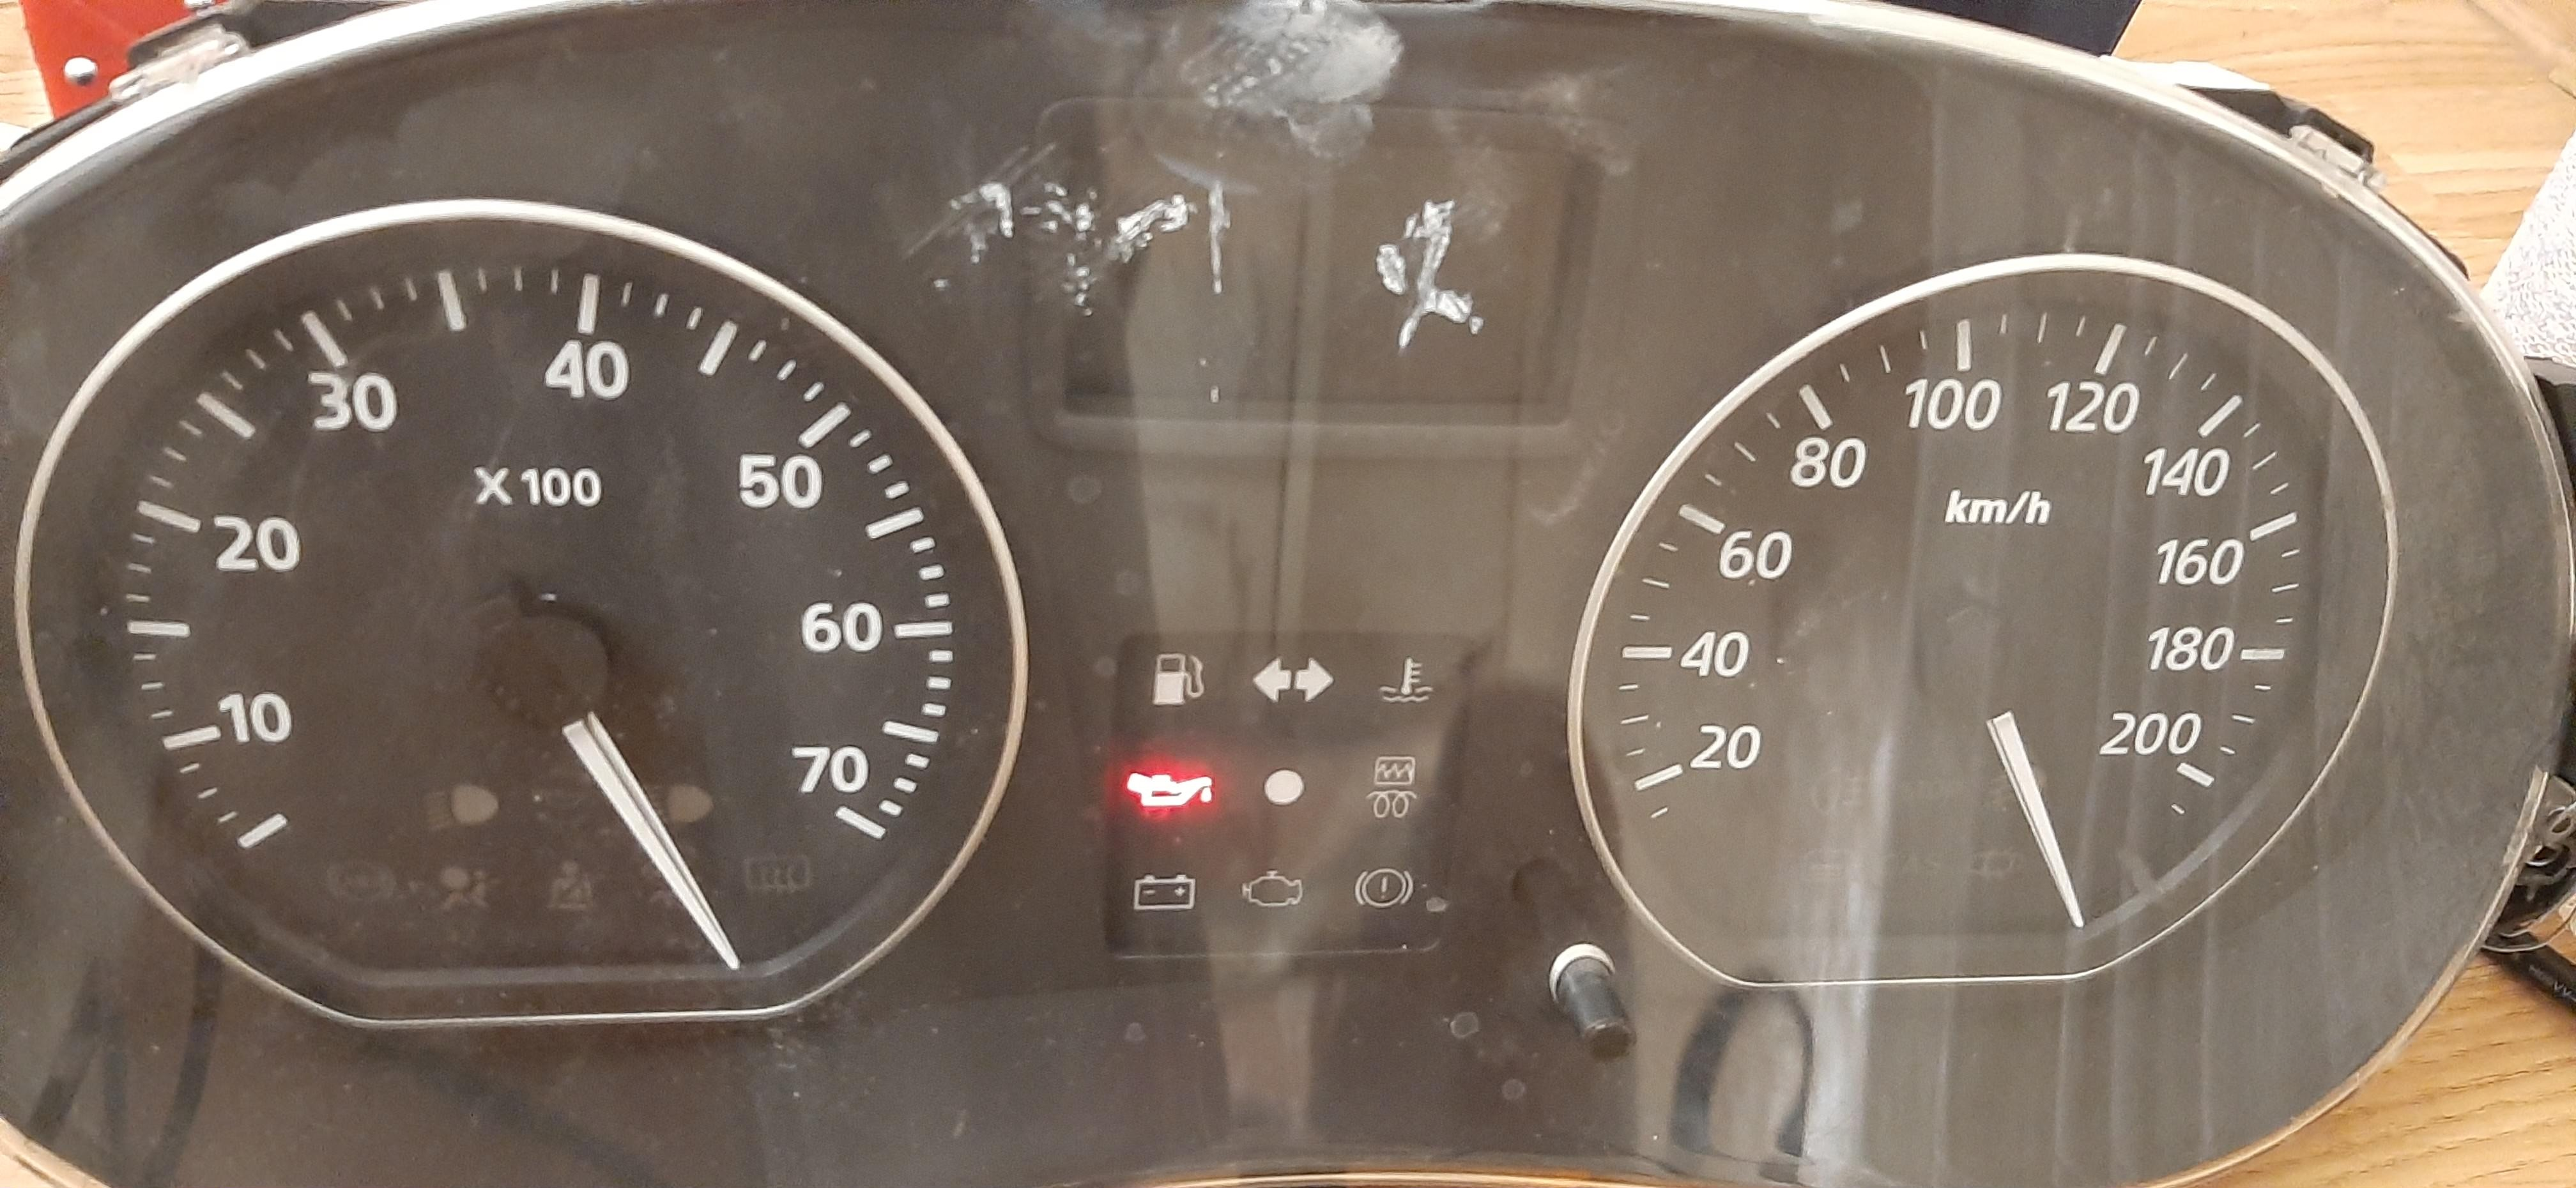oil9: (1124, 769, 1216, 810)
